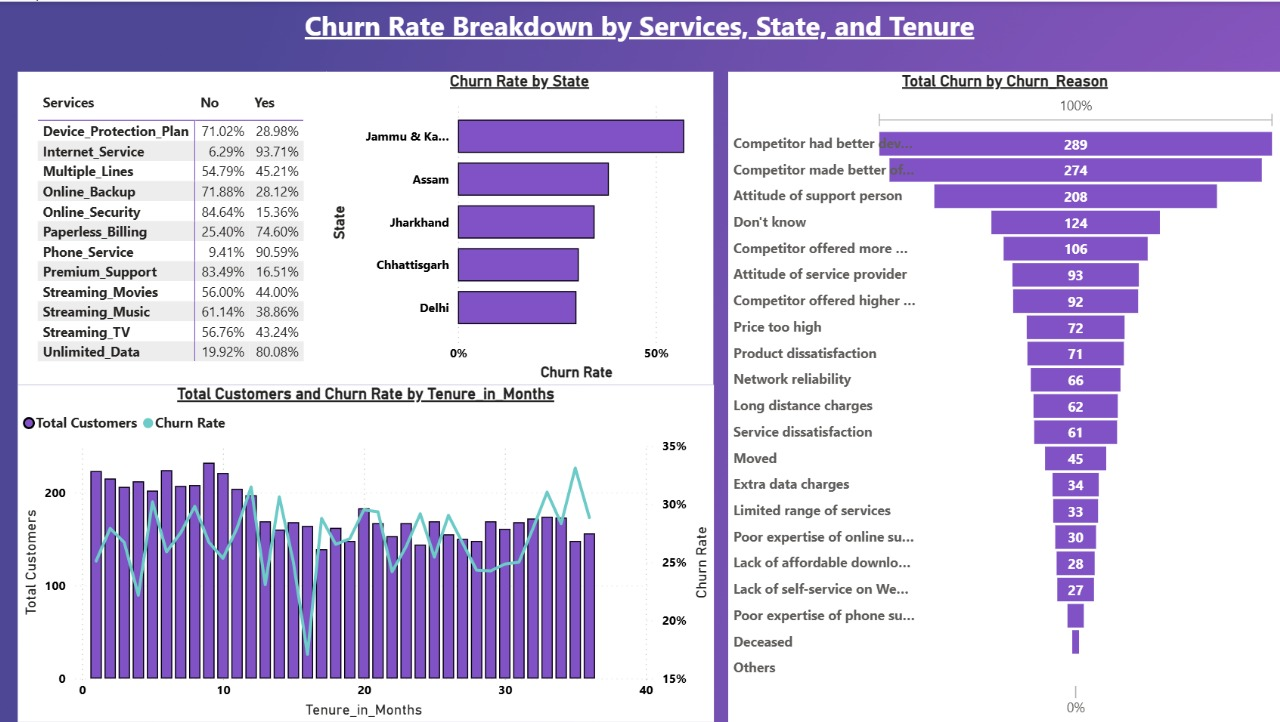

What the dashboard file says about the page in this screenshot:
{"tool":"powerbi","page":{"name":"Page 2","canvas":[1280,720],"ordinal":1},"visuals":[{"type":"lineStackedColumnComboChart","fields":{"Category":["maaping_TenureGrp.Tenure_in_Months"],"Y":["tbl_Measures.Total Customers"],"Y2":["tbl_Measures.Churn Rate"]},"box":[19.1,383,694.1,336.7],"z":0},{"type":"clusteredBarChart","fields":{"Category":["prod_Churn.State"],"Y":["tbl_Measures.Churn Rate"]},"box":[327.1,70.2,386.2,312.8],"z":1000},{"type":"pivotTable","fields":{"Rows":["prod_Services.Services"],"Columns":["prod_Services.Status"],"Values":["Sum(prod_Services.Churn Status)"]},"box":[19.1,70.2,308,312.8],"z":2000},{"type":"funnel","fields":{"Category":["prod_Churn.Churn_Reason"],"Y":["tbl_Measures.Total Churn"]},"box":[727.7,70.2,552.1,649.5],"z":3000},{"type":"textbox","box":[0,0,1279.8,78.2],"z":3001}]}

Visuals, with their boxes in screenshot pixels (x1, y1, x2, y2), scaled from the page's 1280x720 canvas onto the 1280x722 screenshot:
lineStackedColumnComboChart - maaping_TenureGrp.Tenure_in_Months x tbl_Measures.Total Customers: pyautogui.locateOnScreen(19, 384, 713, 721)
clusteredBarChart - prod_Churn.State x tbl_Measures.Churn Rate: pyautogui.locateOnScreen(327, 70, 713, 384)
pivotTable - prod_Services.Services x prod_Services.Status: pyautogui.locateOnScreen(19, 70, 327, 384)
funnel - prod_Churn.Churn_Reason x tbl_Measures.Total Churn: pyautogui.locateOnScreen(728, 70, 1279, 721)
textbox: pyautogui.locateOnScreen(0, 0, 1279, 78)
